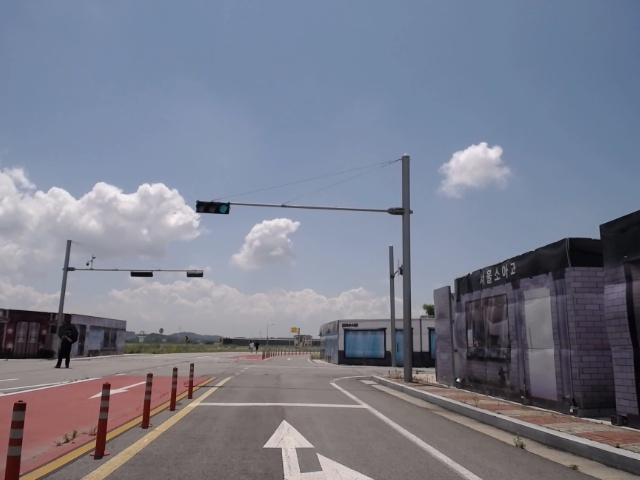green_3: (197, 202, 228, 214)
